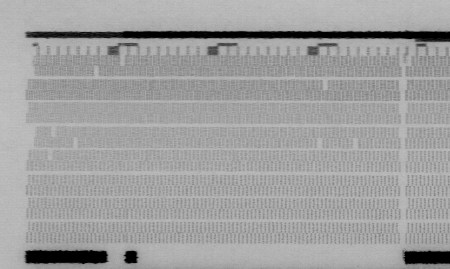Broken hole: (25, 54, 39, 80), (25, 126, 37, 150), (320, 78, 331, 92), (314, 138, 326, 149), (92, 65, 102, 78), (352, 137, 362, 150), (49, 125, 58, 139), (118, 55, 127, 68), (46, 149, 55, 162), (72, 137, 81, 150)
Oblique printing: (404, 54, 416, 67)
